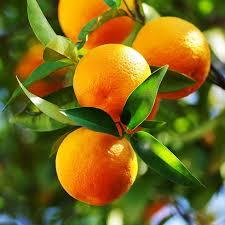orange: (54, 41, 175, 135), (44, 124, 149, 208), (142, 13, 216, 92), (32, 0, 149, 43)
